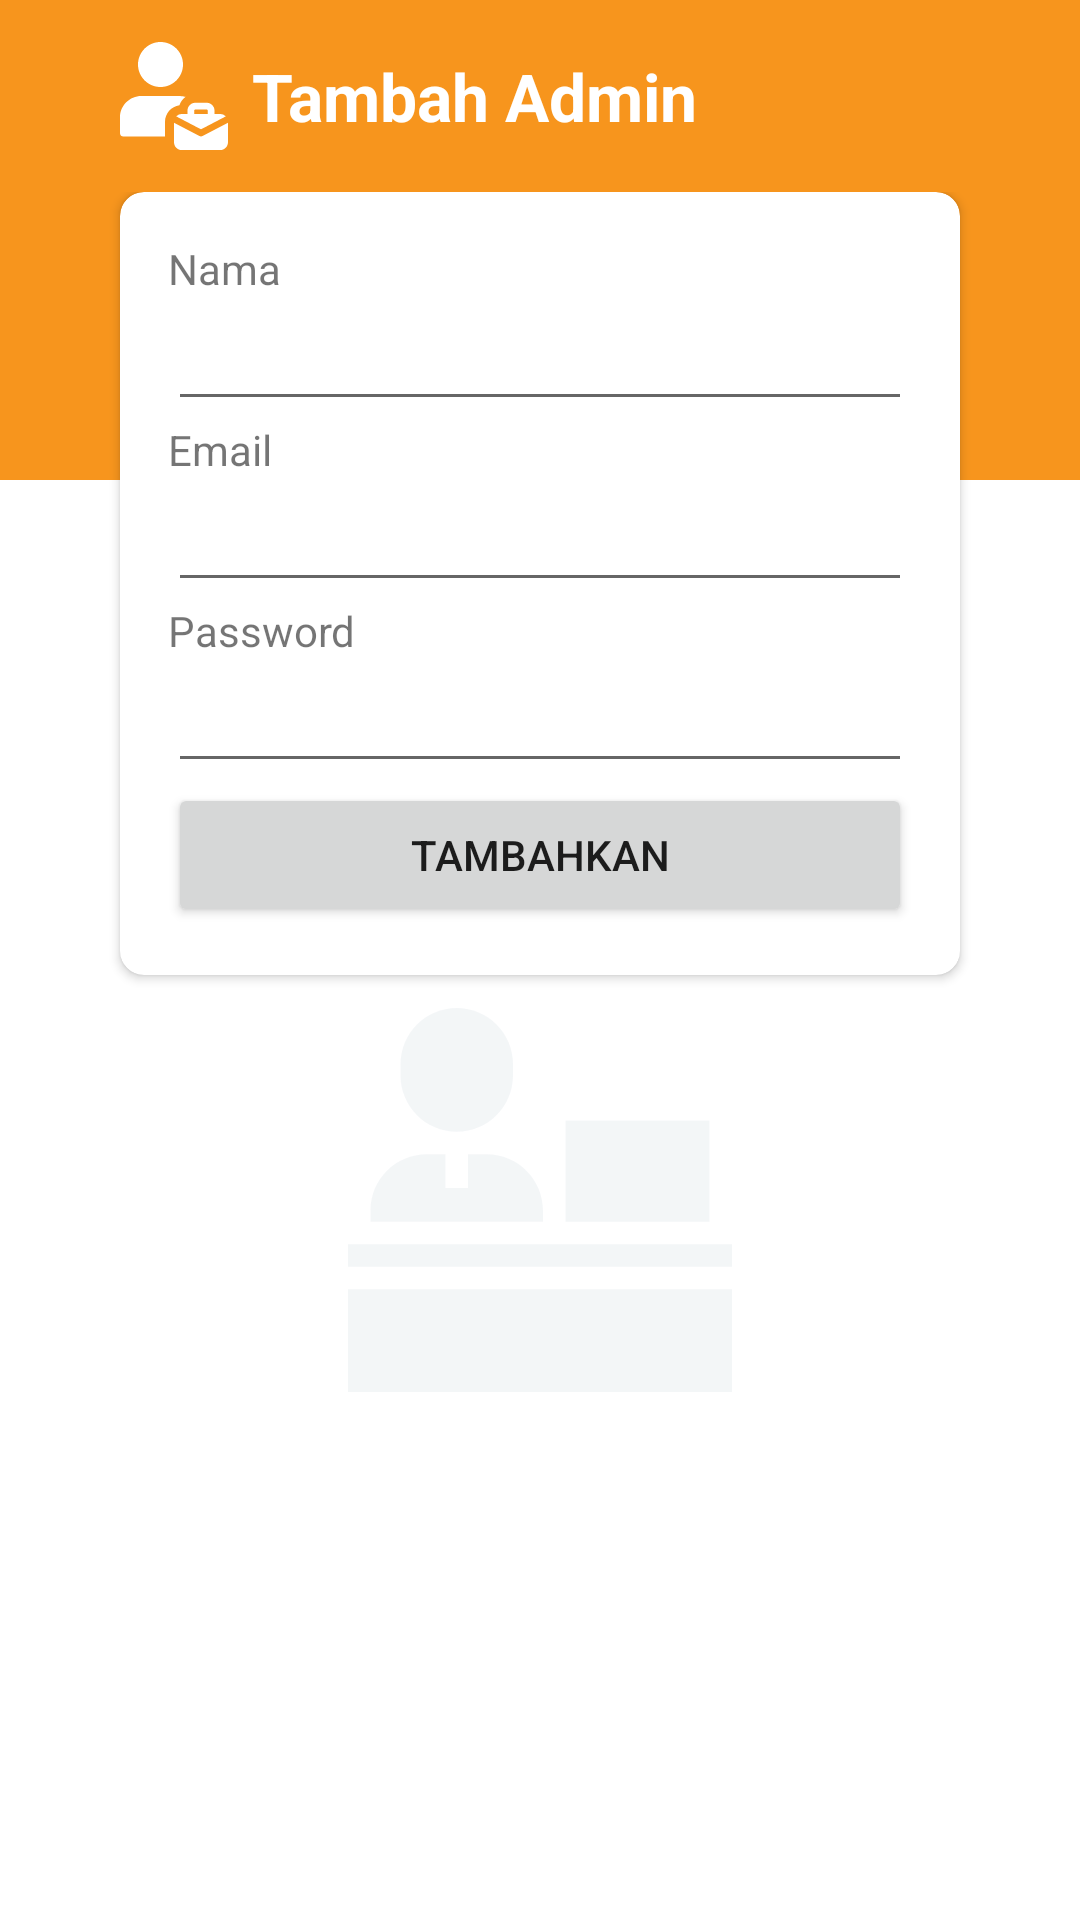

Named icons in this screenshot (1080px x 1920px) and their centers, (x=x, y=y):
gambar menu tambah karyawan: (x=174, y=96)
